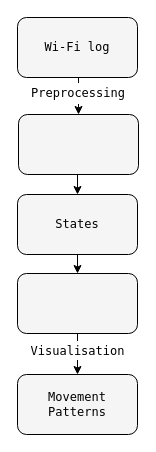
Image size: 156x452. Some labels were removed from this diagram. The shapes that lost their labels are listed below. From the top down, each one's centre as x and y in pixels, then its label:
At point 78,144: "Raw Sessions".
At point 77,303: "Movements".
